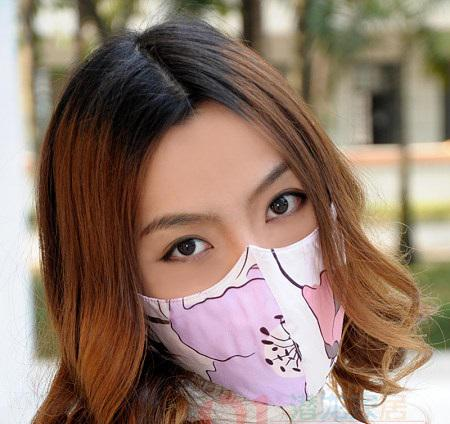OK: (146, 158, 362, 398)
